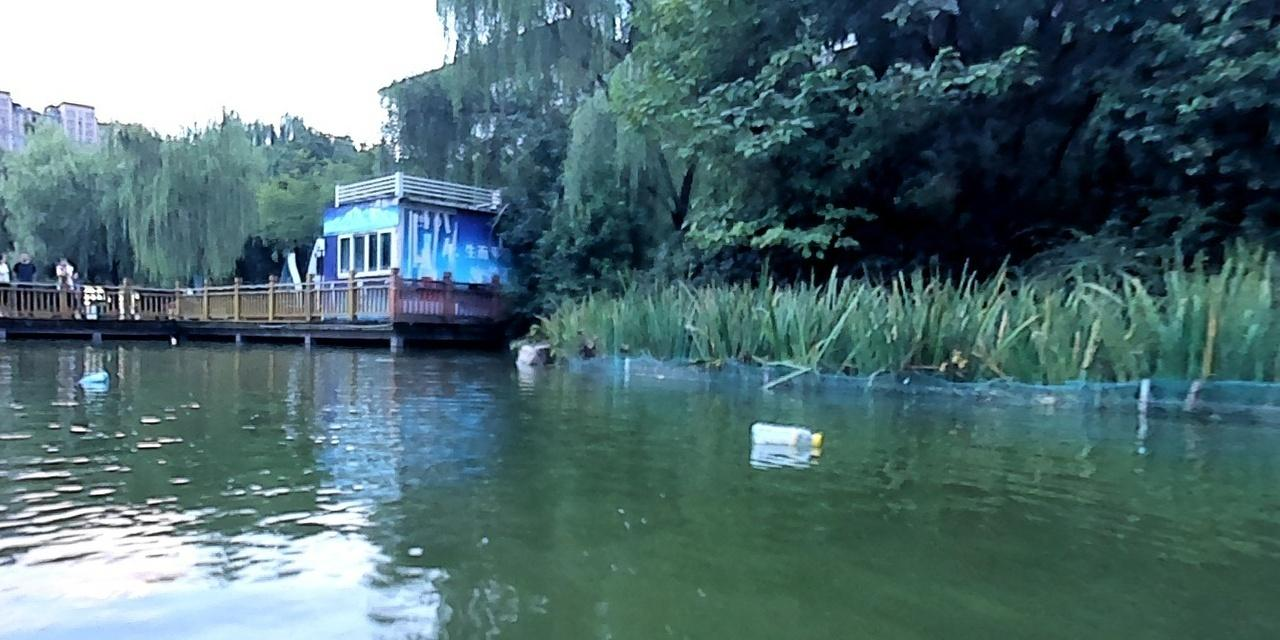bottle: (747, 420, 818, 449), (77, 371, 107, 387)
